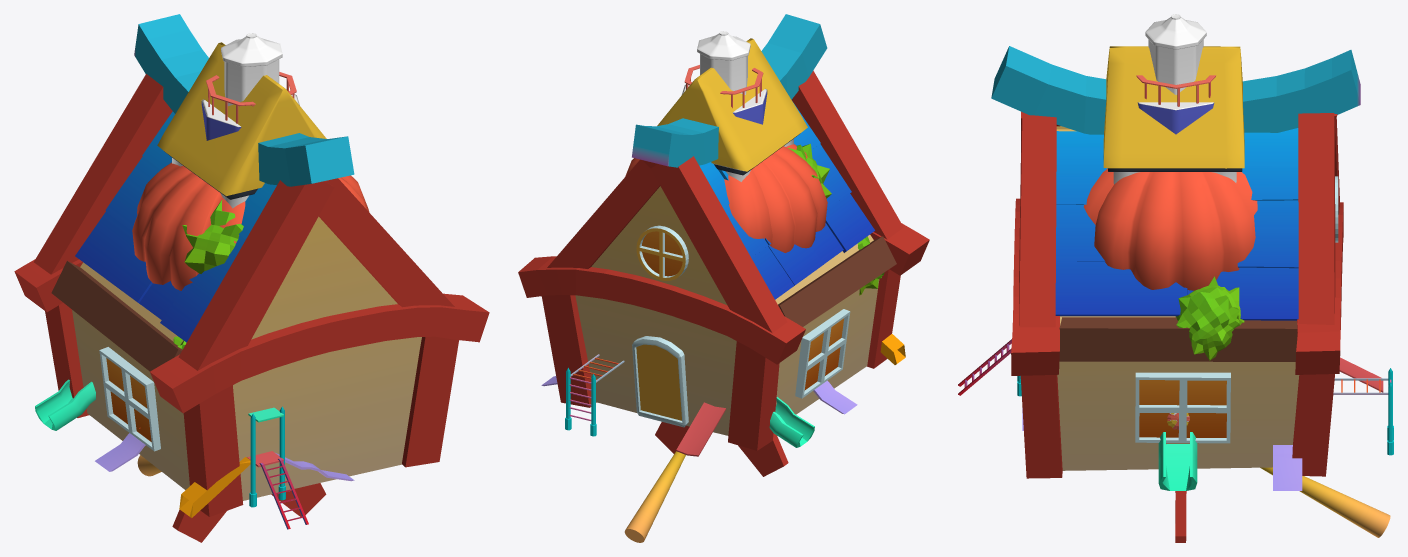
The model's file is all Models (1).fbx.
The picture shows the model from 3 angles, left to right: view 1: azimuth 30°, elevation 25°; view 2: azimuth 150°, elevation 25°; view 3: azimuth 270°, elevation 25°; orthographic projection. The views are drawn at different scales.
Visible parts, largest first — view 1: house, WINDMILL, baloon, kids_park_prop1, LIGHTHOUSE, tree0_5, FAN; view 2: house, WINDMILL, baloon, kids_park_prop1, LIGHTHOUSE, light3, FAN, tree0_5; view 3: house, baloon, WINDMILL, kids_park_prop1, LIGHTHOUSE, tree0_5, light3, FAN.
Boxes of the visible parts, x1=… form: house: x1=14, y1=14, x2=489, y2=516; WINDMILL: x1=157, y1=42, x2=326, y2=208; baloon: x1=132, y1=162, x2=369, y2=290; kids_park_prop1: x1=35, y1=379, x2=354, y2=529; LIGHTHOUSE: x1=201, y1=33, x2=299, y2=140; tree0_5: x1=173, y1=200, x2=243, y2=349; FAN: x1=172, y1=483, x2=326, y2=542; house: x1=518, y1=14, x2=929, y2=450; WINDMILL: x1=657, y1=38, x2=807, y2=181; baloon: x1=625, y1=144, x2=827, y2=252; kids_park_prop1: x1=541, y1=334, x2=905, y2=456; LIGHTHOUSE: x1=681, y1=31, x2=767, y2=124; light3: x1=624, y1=451, x2=685, y2=542; FAN: x1=655, y1=422, x2=788, y2=476; tree0_5: x1=788, y1=143, x2=884, y2=295; house: x1=991, y1=46, x2=1360, y2=478; baloon: x1=1083, y1=168, x2=1257, y2=290; WINDMILL: x1=1103, y1=46, x2=1244, y2=184; kids_park_prop1: x1=958, y1=339, x2=1393, y2=490; LIGHTHOUSE: x1=1136, y1=14, x2=1215, y2=134; tree0_5: x1=1175, y1=276, x2=1244, y2=360; light3: x1=1260, y1=467, x2=1390, y2=537; FAN: x1=1175, y1=491, x2=1186, y2=542.
Size of what is drawn, in the model's own units: 856 by 1327 by 1008.
